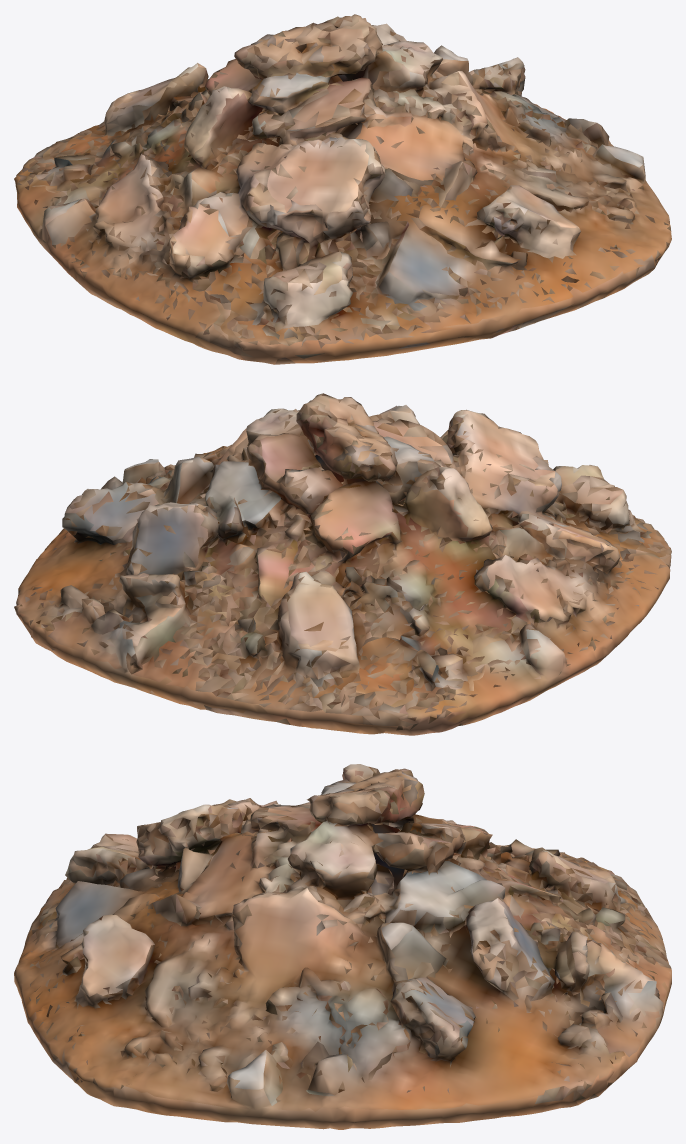
File: Desert rock rubble_final.glb
The picture shows the model from 3 angles, top to bottom: view 1: azimuth 30°, elevation 25°; view 2: azimuth 150°, elevation 25°; view 3: azimuth 270°, elevation 25°; orthographic projection. The views are drawn at different scales.
Visible parts, largest first — view 1: Mesh_0; view 2: Mesh_0; view 3: Mesh_0.
Part boxes in pixels (x1=…): Mesh_0: x1=14, y1=14, x2=671, y2=364; Mesh_0: x1=14, y1=393, x2=671, y2=735; Mesh_0: x1=14, y1=764, x2=671, y2=1129.
Size of the model in its own units: 2.75 by 1 by 2.76.
1 material, 1 textured.
